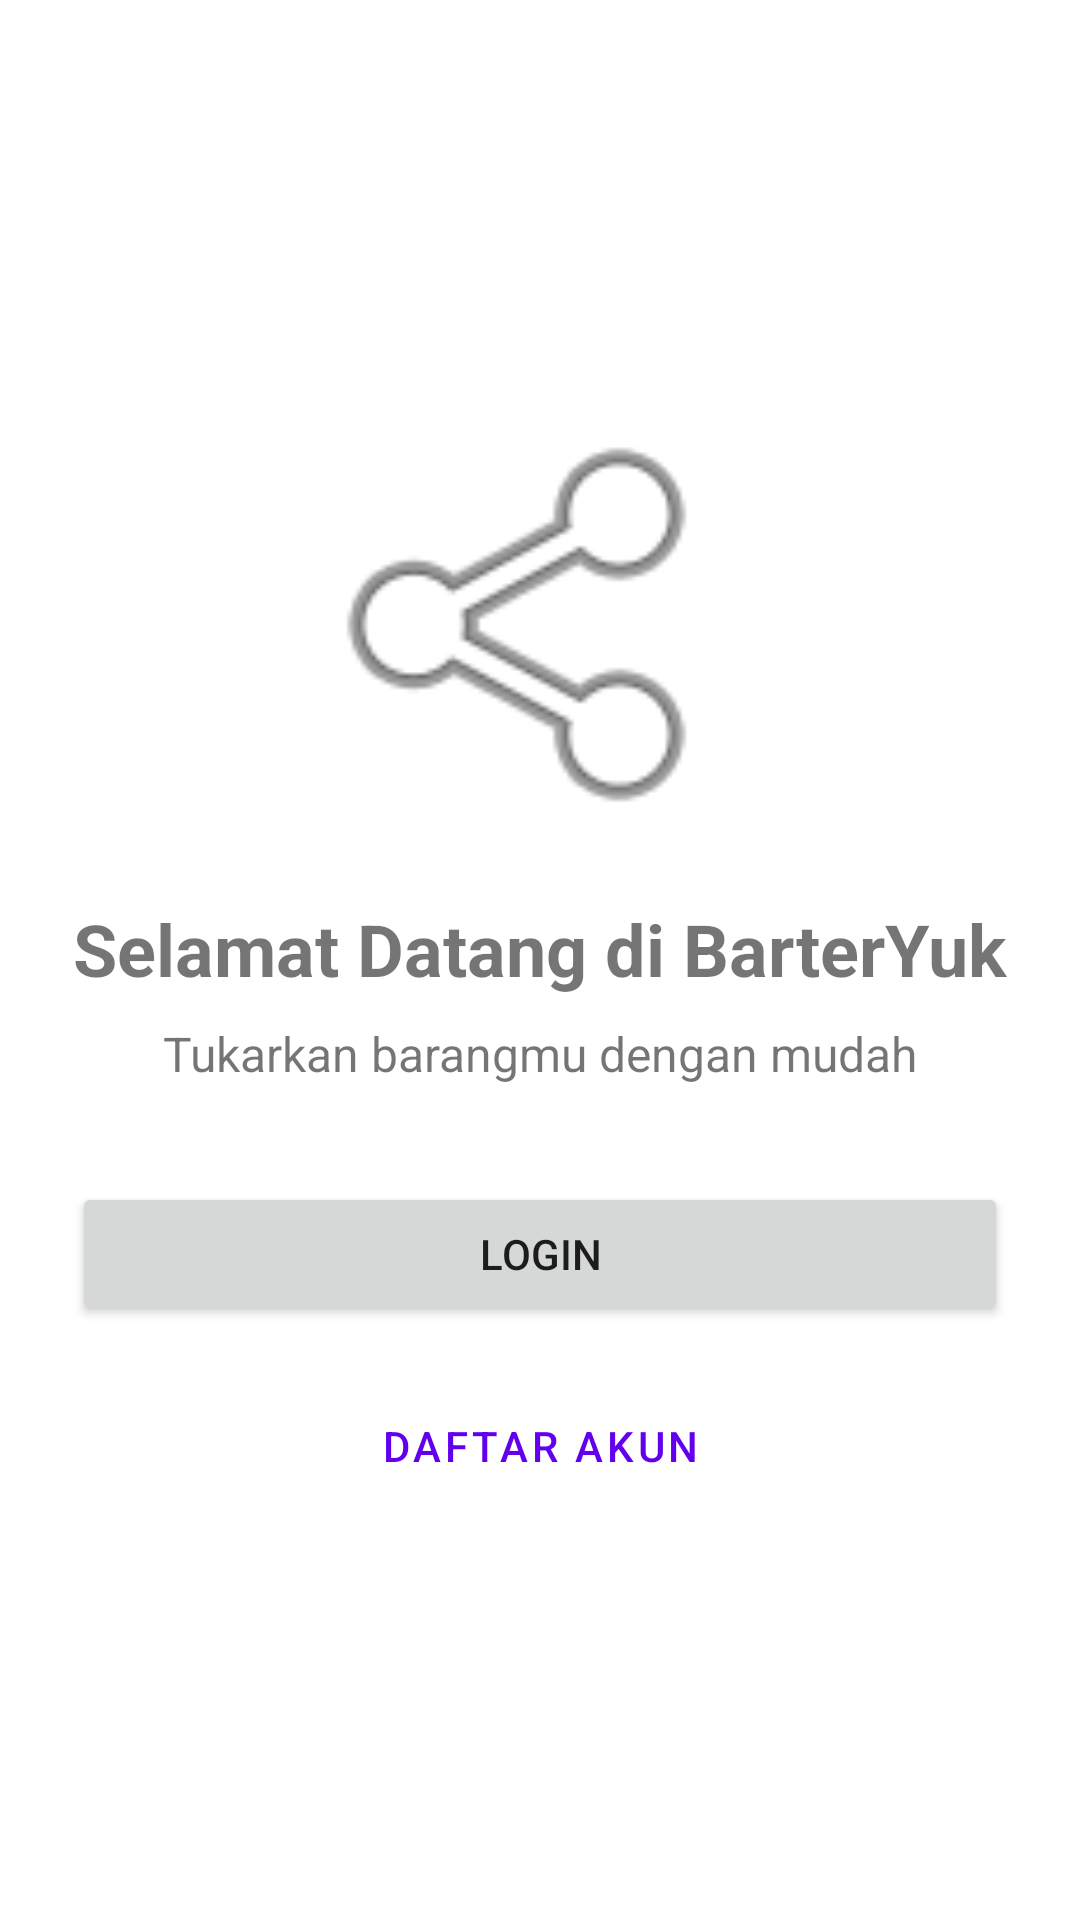

Point at icon controls on the screen. Image size 1080*1920, points as (x,y).
share: (516,624)
